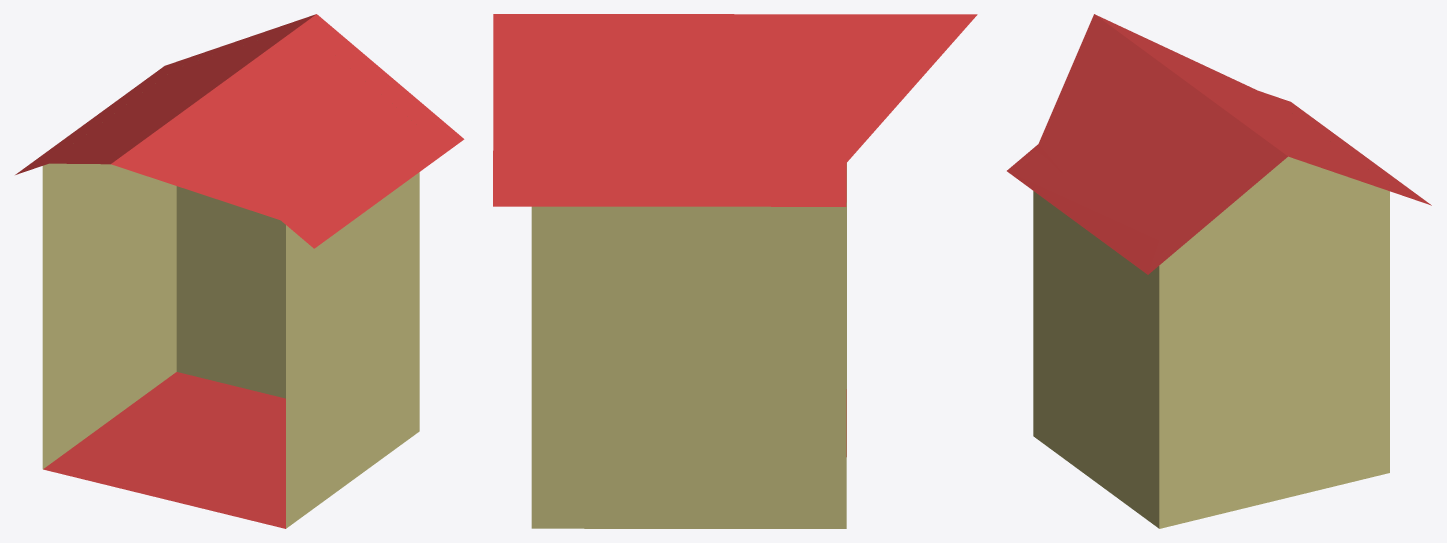
3 renders of one model, left to right at view 1: azimuth 30°, elevation 25°; view 2: azimuth 150°, elevation 25°; view 3: azimuth 270°, elevation 25°, orthographic. The views are drawn at different scales.
Bounding box in the file's own units: 10.08 × 10.27 × 9.48.
